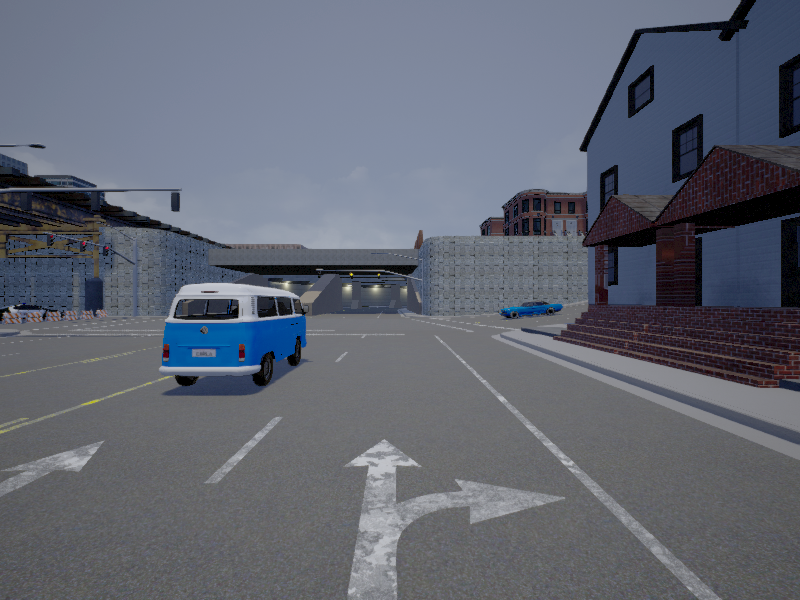Benign: (162, 280, 307, 385), (501, 300, 564, 318)
